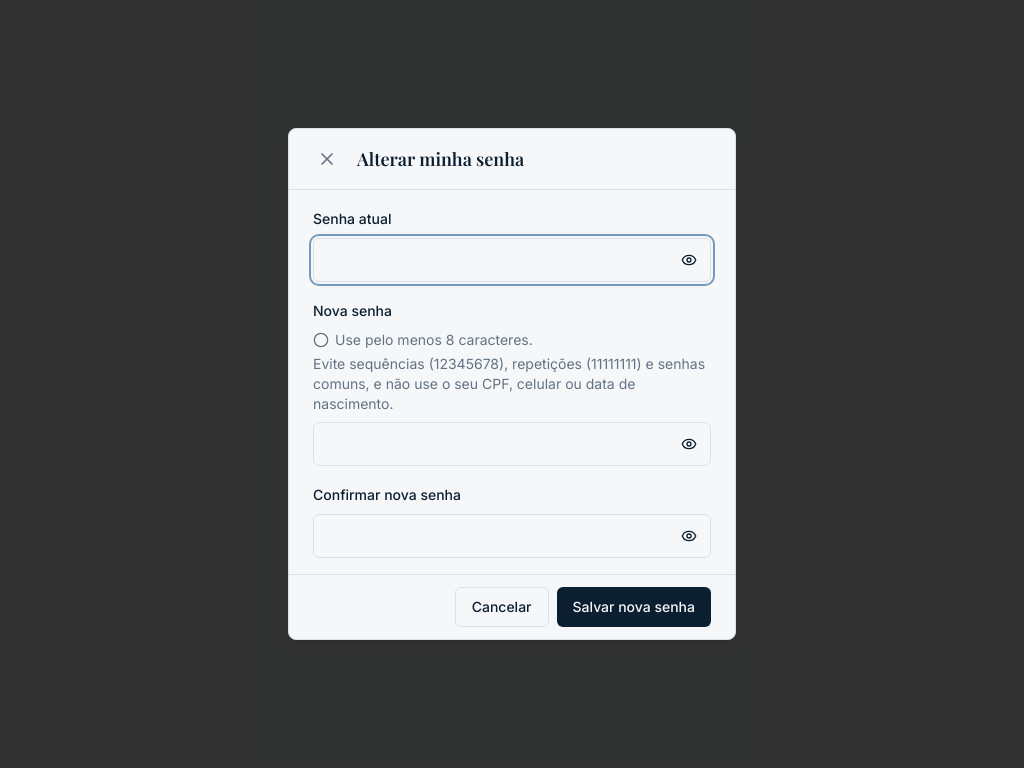
Test: T3 › UX-17: senha atual errada limpa só ela, com o foco e a ajuda a partir do primeiro erro
The image size is (1024, 768).
Expected: the text "Se não lembra a senha atual, fale com o seu líder." is not shown
In the password field labelled "Senha atual": (512, 260) x1=313 y1=238 x2=711 y2=282, type "Errada#2024"
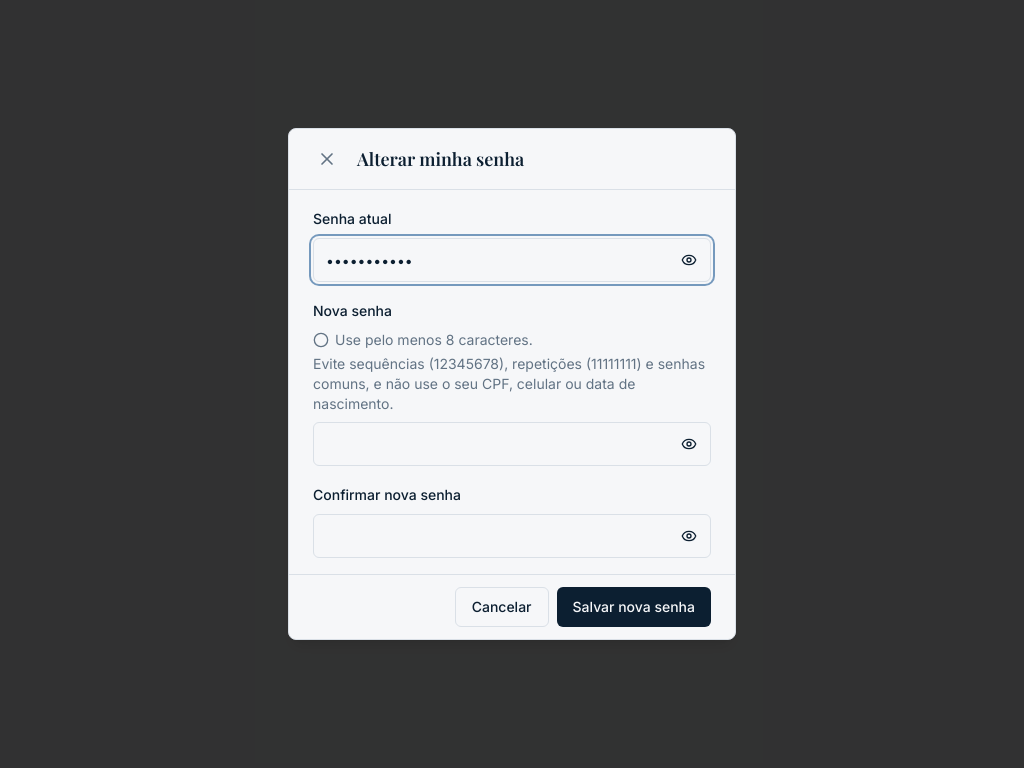
In the password field labelled "Nova senha": (512, 444) x1=313 y1=422 x2=711 y2=466, type "Abacate7"
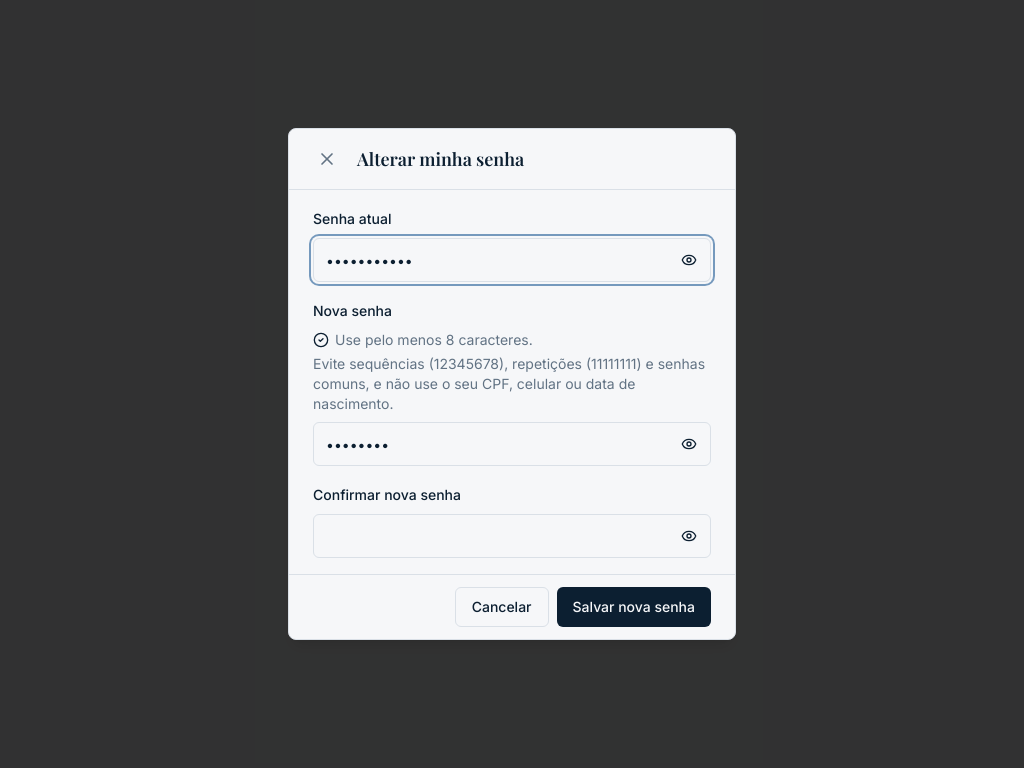
In the password field labelled "Confirmar nova senha": (512, 536) x1=313 y1=514 x2=711 y2=558, type "Abacate7"
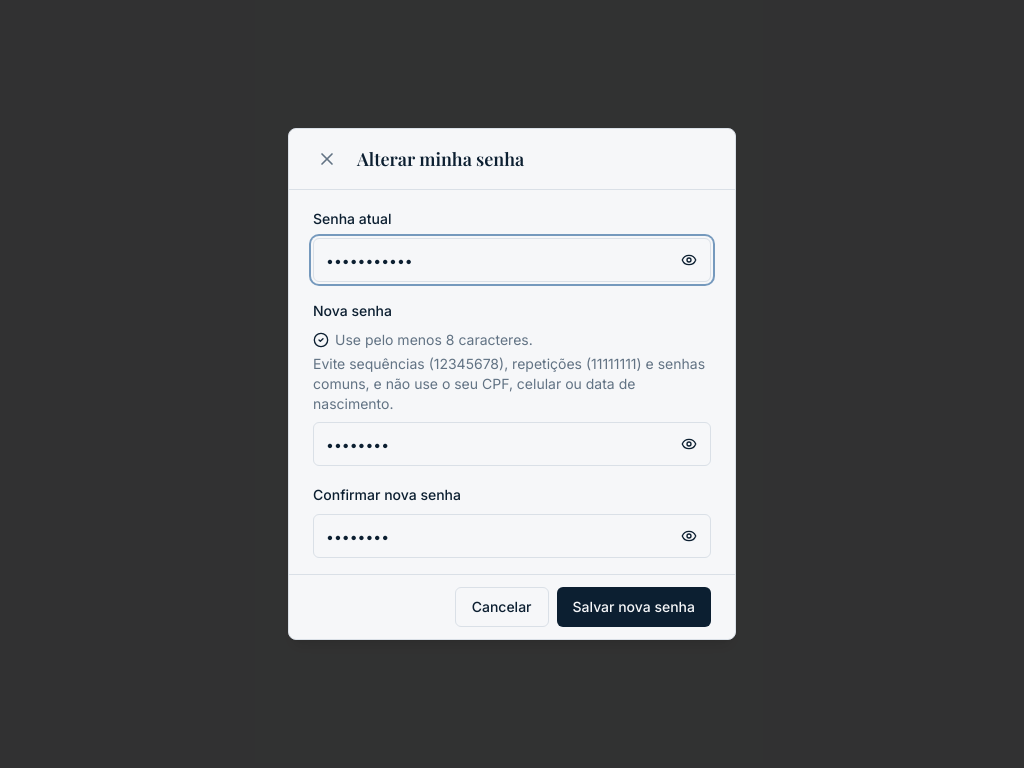
Click the button "Salvar nova senha": (634, 607) x1=556 y1=587 x2=711 y2=627
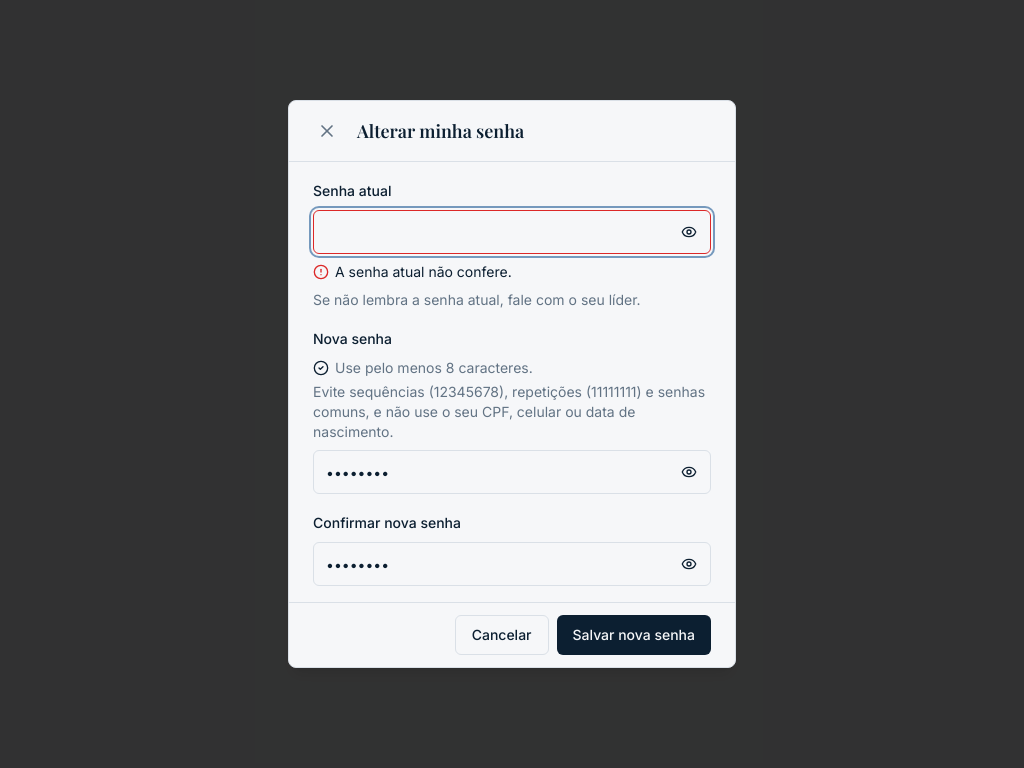
Expected: the text "A senha atual não confere." is shown, x1=335 y1=262 x2=512 y2=282
Expected: the text "Se não lembra a senha atual, fale com o seu líder." is shown, x1=313 y1=291 x2=641 y2=308
Expected: the password field labelled "Senha atual" is empty, x1=313 y1=210 x2=711 y2=254
